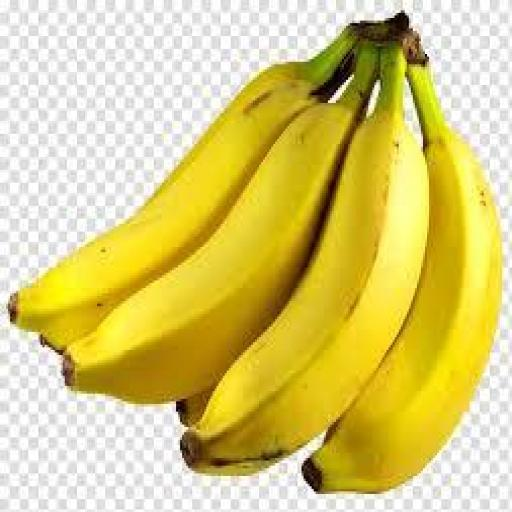banana: (9, 26, 356, 349), (181, 44, 429, 473), (65, 67, 372, 403), (304, 65, 501, 491)
